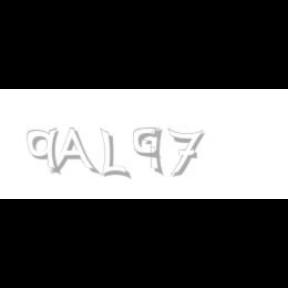1: (142, 128, 164, 176)
7: (168, 128, 204, 178)
A: (49, 128, 97, 176)
L: (100, 128, 128, 180)
c: (132, 128, 162, 160)
q: (26, 128, 62, 176)
